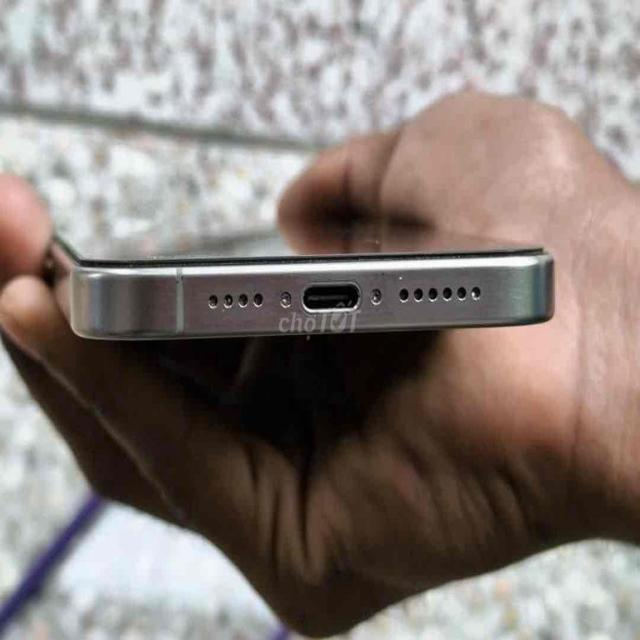gen_15: (45, 215, 568, 368)
scratch: (172, 264, 186, 290), (394, 270, 405, 284)
